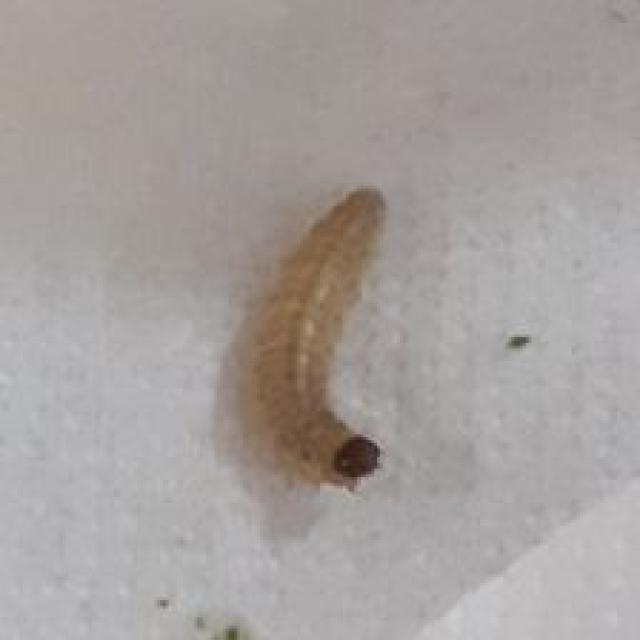white mucus: (226, 165, 453, 522)
